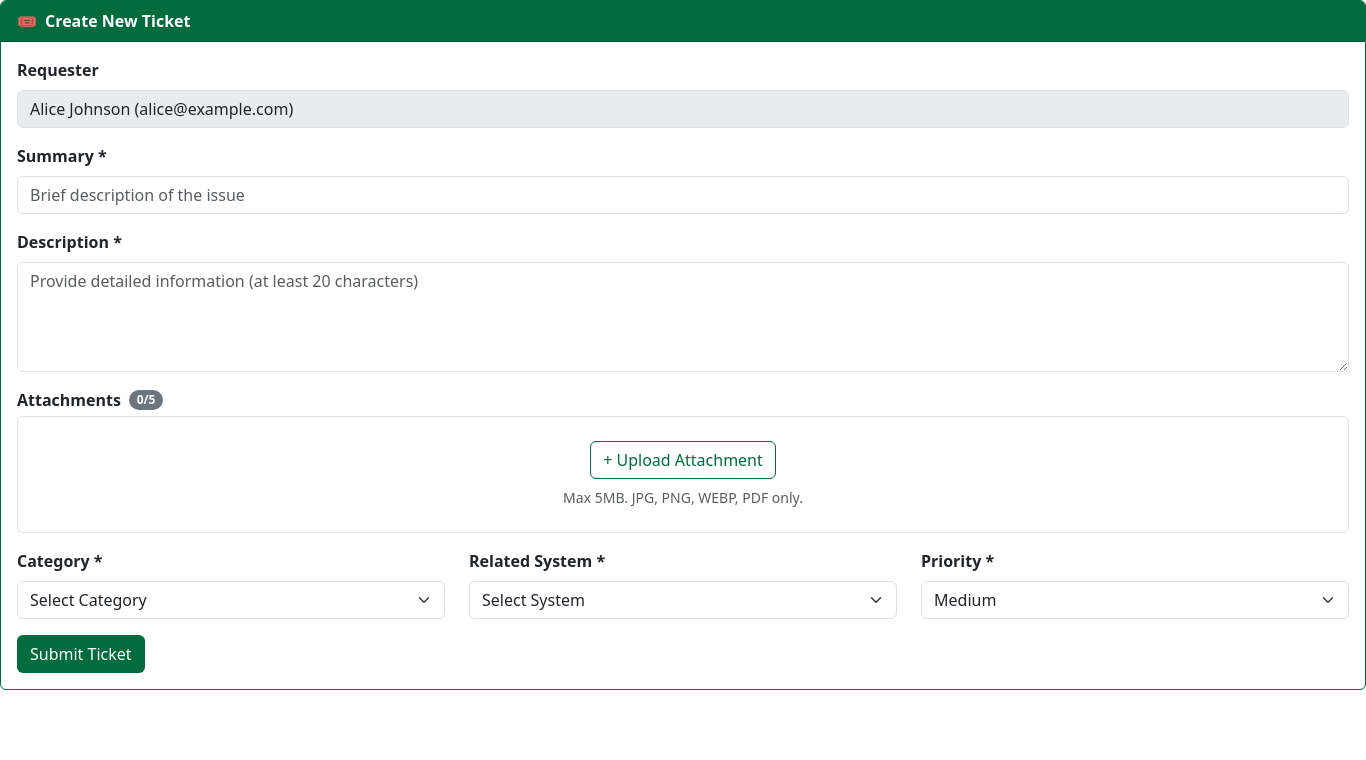
Test: CreateTicket Component › should show validation errors when fields are empty or invalid
This screenshot has width=1366, height=760.
# Submit empty form
Click the button with test id "submit-ticket-btn". click: [81, 654]
box: [17, 635, 145, 673]
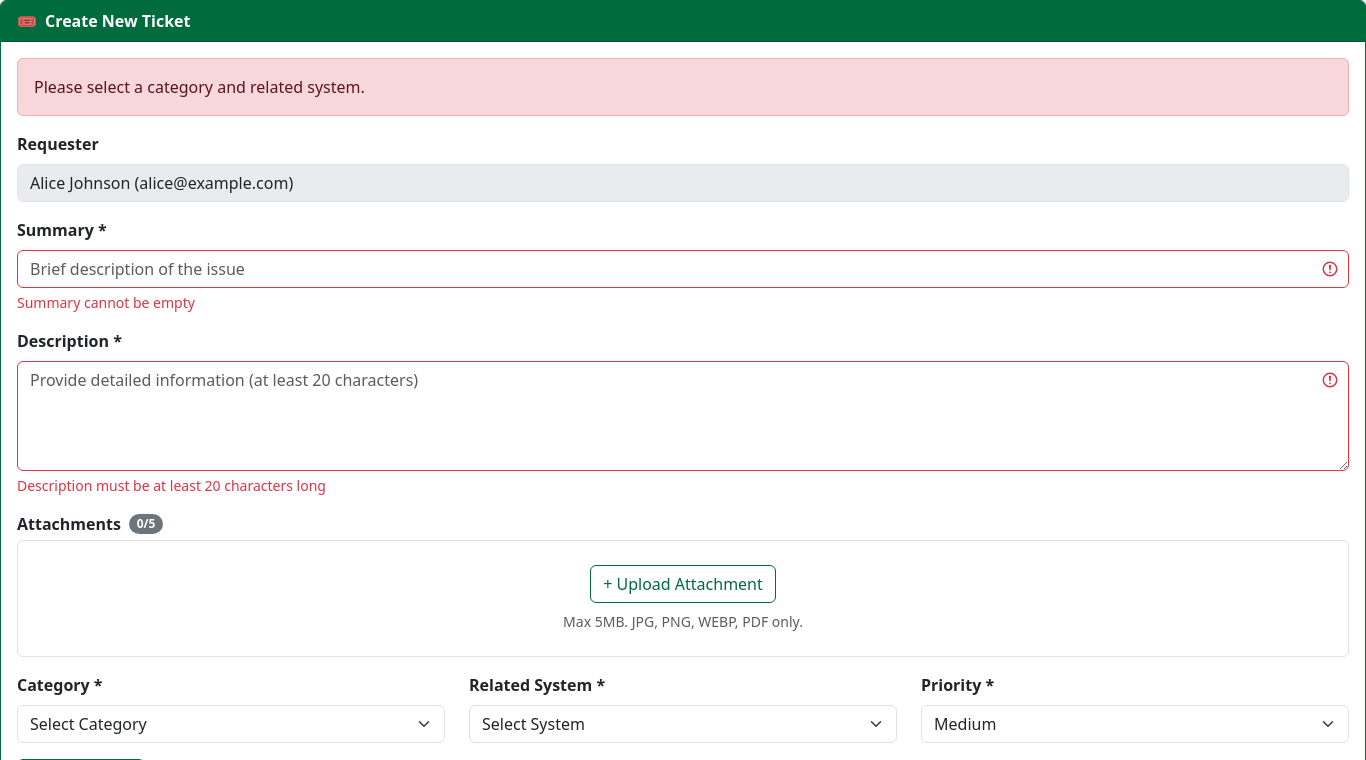
expect the text "Summary cannot be empty" is shown: met, box [17, 293, 195, 312]
expect the text "Description must be at least 20 characters long" is shown: met, box [17, 476, 326, 495]
expect the message with test id "error-banner" shows "Please select a category and related system": met, box [34, 76, 365, 98]
